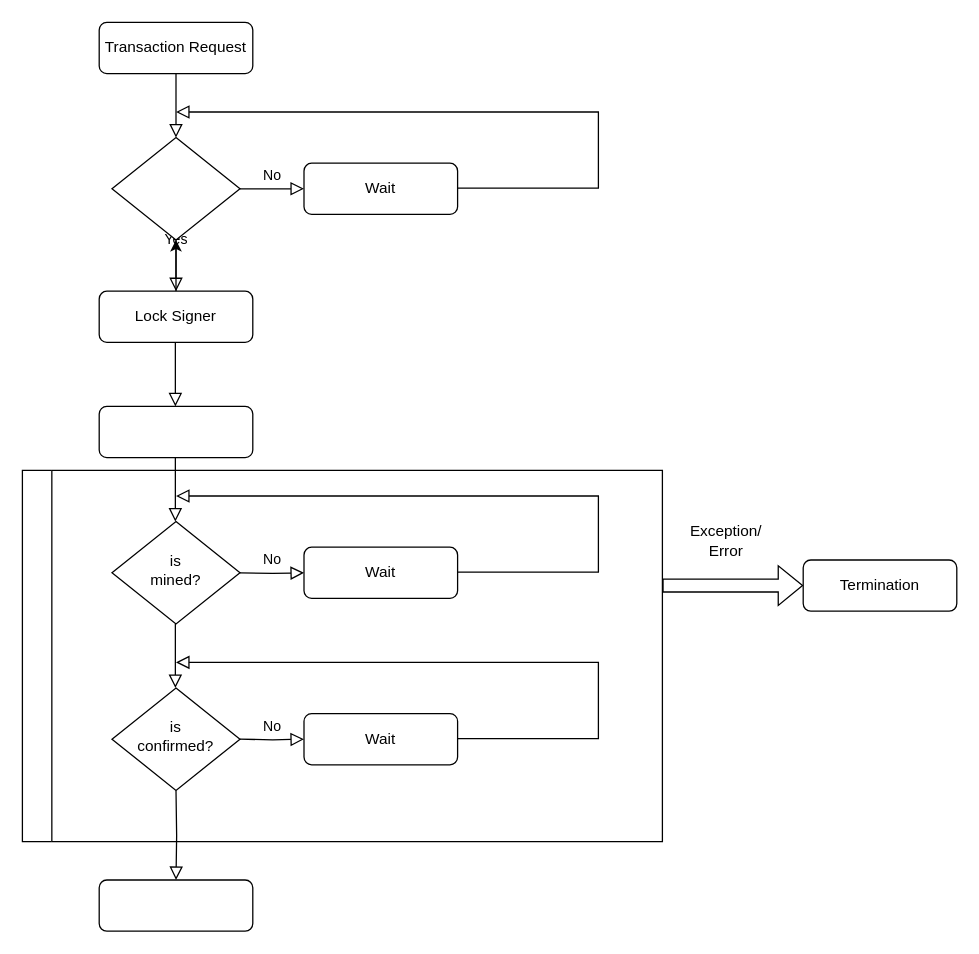
This 979x954 diagram has some shape labels left out. The centre of each missing label's shape, as x and y in pixels:
"Long living transaction processing" belongs at (341,655).
"Send Transaction" belongs at (175,431).
"signer available" belongs at (175,188).
"unlock Signer" belongs at (175,905).
